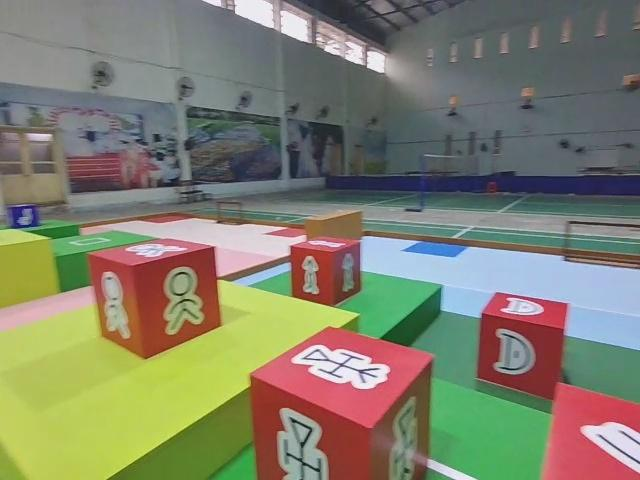R2 Real: (247, 323, 436, 480), (86, 235, 225, 362), (475, 289, 570, 399), (287, 235, 363, 306)
